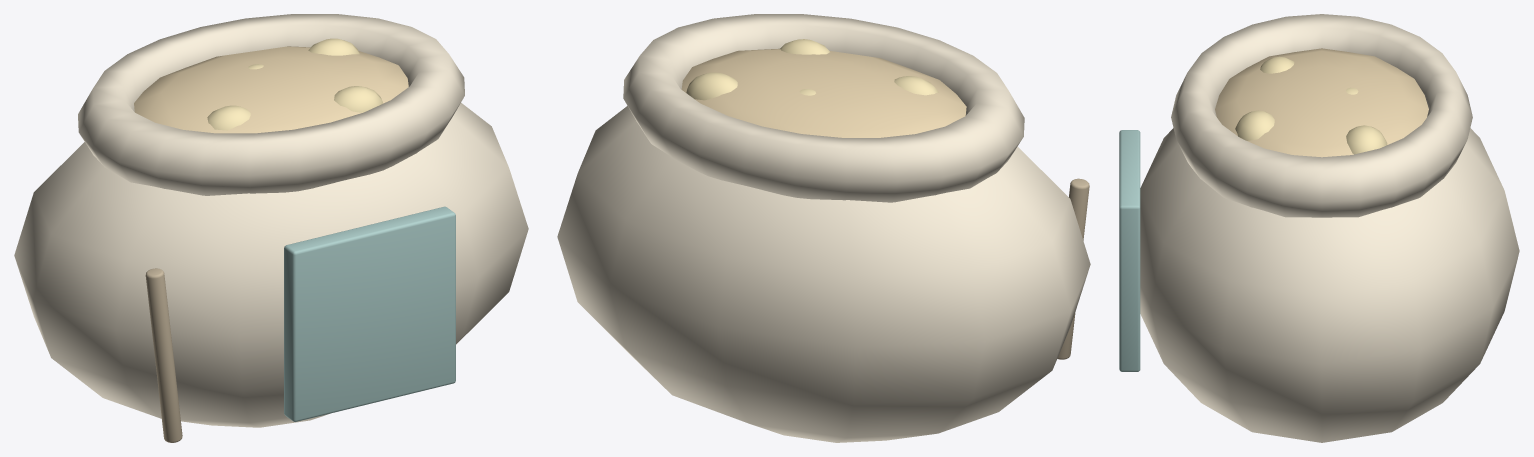
Rendered from ration-partial.glb.
The picture shows the model from 3 angles, left to right: view 1: azimuth 30°, elevation 25°; view 2: azimuth 150°, elevation 25°; view 3: azimuth 270°, elevation 25°; orthographic projection. The views are drawn at different scales.
Parts seen in each view (by area): view 1: Padded ration sack.001, Rolled fabric mouth.001, Diet label.001, Ration surface.001, Stitched sack seam.001, Grain kernel.005, Grain kernel.004, Grain kernel.007; view 2: Padded ration sack.001, Rolled fabric mouth.001, Ration surface.001, Stitched sack seam.001, Grain kernel.007, Grain kernel.005, Grain kernel.004; view 3: Padded ration sack.001, Rolled fabric mouth.001, Ration surface.001, Diet label.001, Grain kernel.005, Grain kernel.007, Grain kernel.004.
Boxes of the visible parts, box(x1,y1,x2,y2) form: Padded ration sack.001: box(14, 103, 528, 427); Rolled fabric mouth.001: box(78, 14, 464, 195); Diet label.001: box(284, 206, 455, 421); Ration surface.001: box(134, 46, 408, 133); Stitched sack seam.001: box(145, 268, 182, 442); Grain kernel.005: box(334, 86, 383, 112); Grain kernel.004: box(207, 105, 250, 130); Grain kernel.007: box(308, 38, 359, 55); Padded ration sack.001: box(557, 106, 1090, 442); Rolled fabric mouth.001: box(623, 14, 1024, 202); Ration surface.001: box(681, 48, 966, 137); Stitched sack seam.001: box(1057, 178, 1089, 359); Grain kernel.007: box(686, 72, 737, 100); Grain kernel.005: box(780, 39, 829, 54); Grain kernel.004: box(894, 76, 938, 95); Padded ration sack.001: box(1140, 128, 1519, 442); Rolled fabric mouth.001: box(1171, 14, 1472, 217); Ration surface.001: box(1215, 48, 1428, 157); Diet label.001: box(1119, 130, 1140, 371); Grain kernel.005: box(1235, 110, 1274, 140); Grain kernel.007: box(1346, 125, 1387, 154); Grain kernel.004: box(1260, 56, 1294, 73).
Size of the model in its own units: 0.76 by 0.4996 by 0.567.
